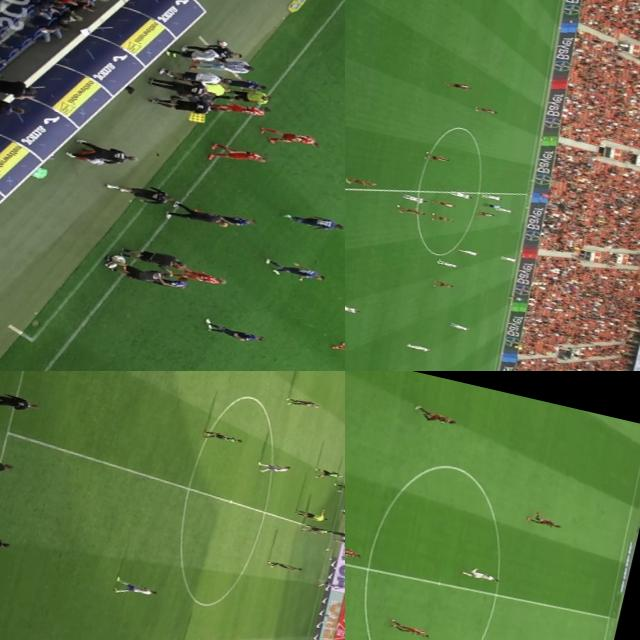ball: (322, 547, 330, 551)
player: (198, 318, 270, 348), (266, 256, 332, 284), (193, 206, 259, 229), (208, 99, 274, 122), (205, 143, 268, 167), (282, 208, 344, 232), (257, 126, 321, 149), (170, 264, 223, 286), (191, 40, 247, 60), (138, 273, 190, 292), (114, 578, 158, 600), (388, 618, 432, 640), (414, 406, 460, 427), (217, 74, 270, 92), (200, 427, 243, 446), (458, 566, 501, 584), (523, 512, 564, 530), (256, 459, 292, 478), (325, 336, 345, 368), (268, 558, 302, 574), (345, 537, 365, 562), (288, 396, 318, 412), (312, 466, 342, 481), (394, 204, 426, 218), (345, 174, 374, 189), (402, 340, 433, 354), (314, 578, 344, 591), (423, 150, 450, 163), (443, 79, 472, 91), (302, 524, 331, 536), (401, 192, 426, 204), (472, 105, 498, 116), (435, 258, 458, 270), (431, 212, 454, 224), (447, 189, 471, 200), (455, 246, 480, 256), (431, 199, 456, 209), (430, 279, 452, 290), (480, 191, 502, 202), (449, 321, 470, 331), (496, 254, 517, 264), (331, 480, 345, 495), (328, 528, 345, 540), (491, 205, 513, 214), (475, 209, 495, 218), (345, 300, 358, 312), (335, 535, 345, 545)
